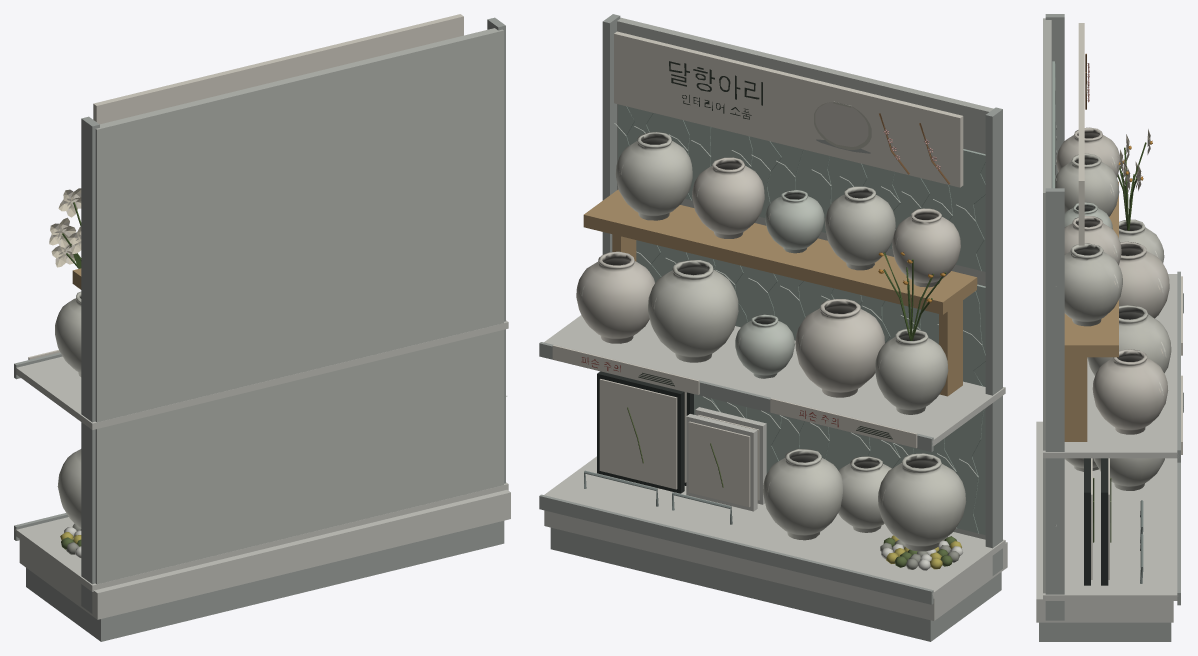
Rendered from jars.glb.
3 renders of one model, left to right at view 1: azimuth 30°, elevation 25°; view 2: azimuth 150°, elevation 25°; view 3: azimuth 270°, elevation 25°, orthographic. The views are drawn at different scales.
Parts seen in each view (by area): view 1: Daiso_jars; view 2: Daiso_jars; view 3: Daiso_jars.
Boxes of the visible parts, box(x1,y1,x2,y2) form: Daiso_jars: box(14, 14, 510, 641); Daiso_jars: box(539, 14, 1007, 641); Daiso_jars: box(1036, 14, 1183, 641).
Bounding box in the file's own units: 1.83 × 2.13 × 0.6265.
